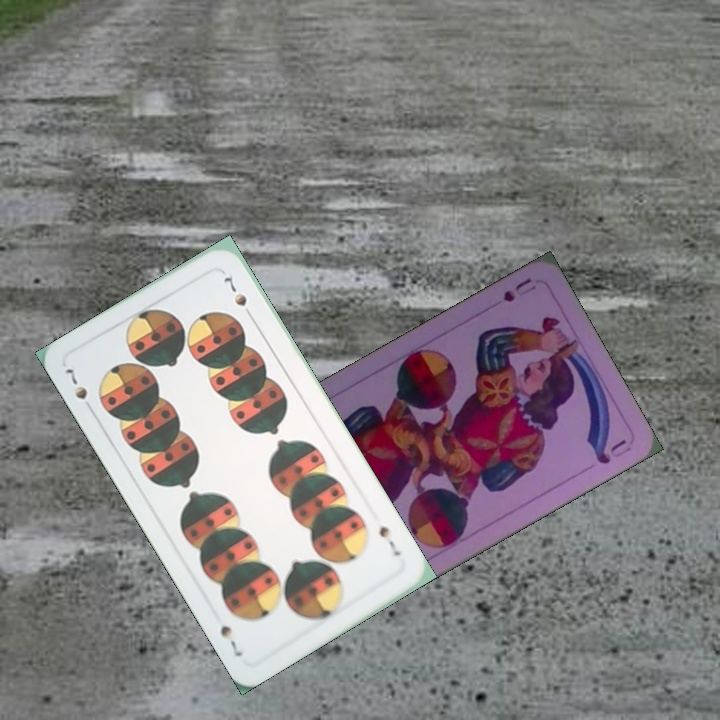S7: (61, 364, 97, 416), (374, 521, 404, 559)
SU: (499, 274, 539, 305)
